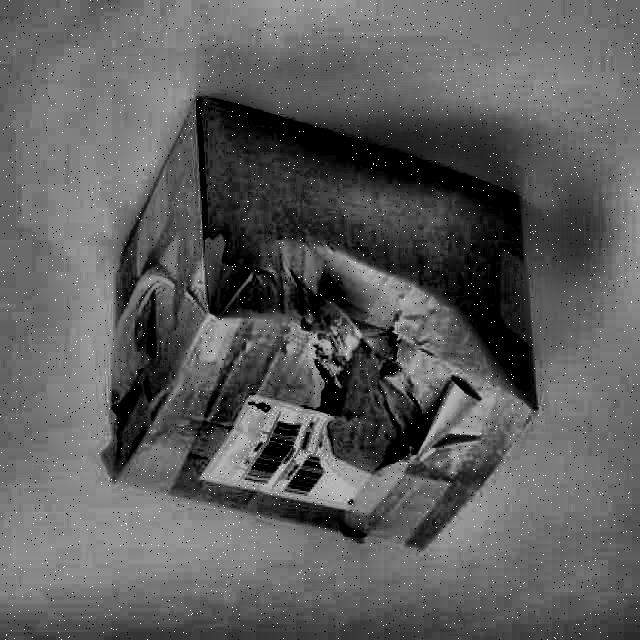box: (101, 83, 554, 565)
hole: (383, 312, 411, 361)
